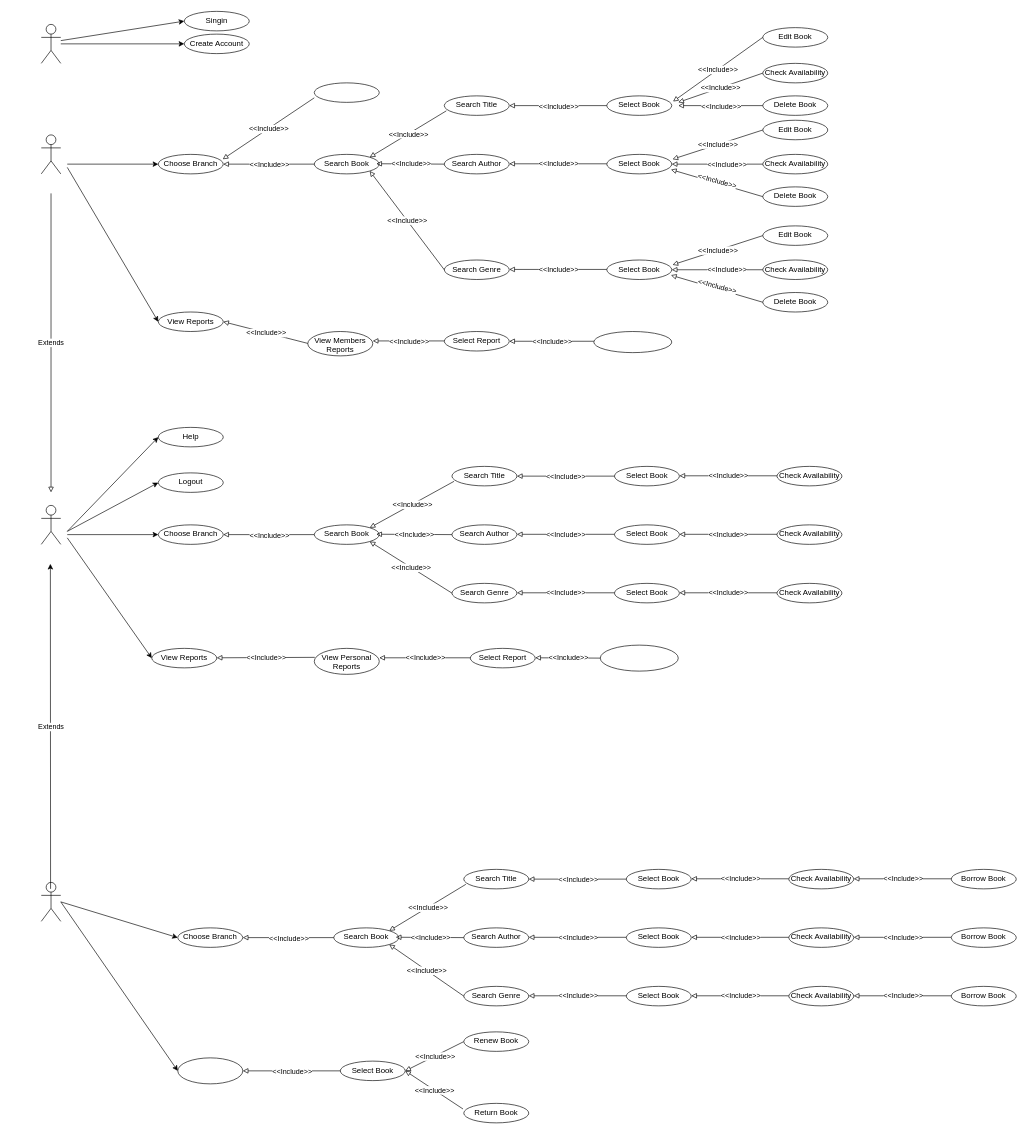
Some shapes in this 1028 by 1134 pixel diagram are drawn without their labels. The centre of each missing label's shape, as x and y in pixels:
Add Book: pixel 346 92
Authentificated User: pixel 51 524
Edit Personal Information Report: pixel 639 657
Edit Report: pixel 632 342
Member: pixel 51 901
Staff: pixel 51 154
Unauthentificated User: pixel 51 43
View Borrowed Books: pixel 210 1070
